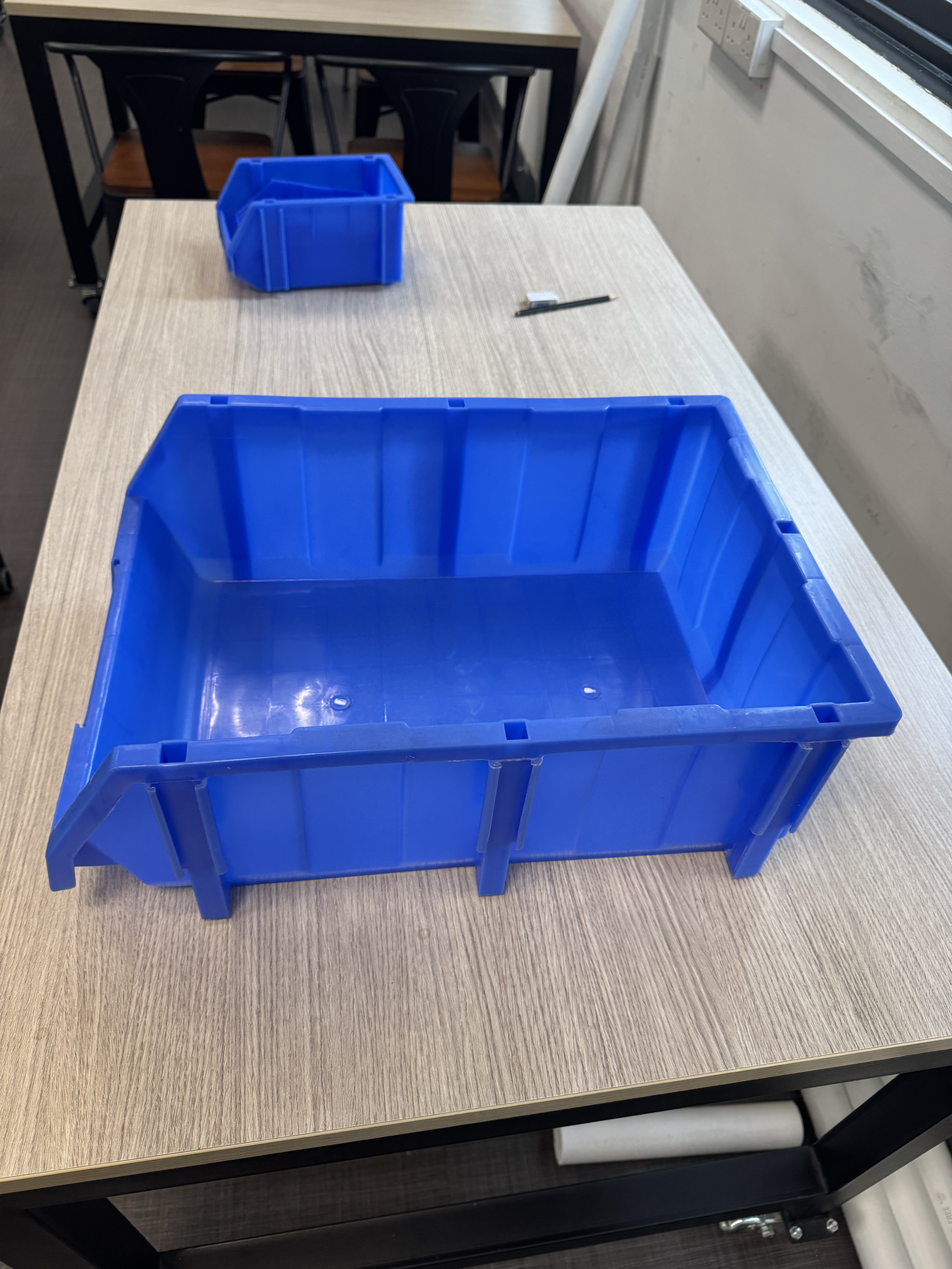Bin Boundary: (79, 399, 867, 795)
